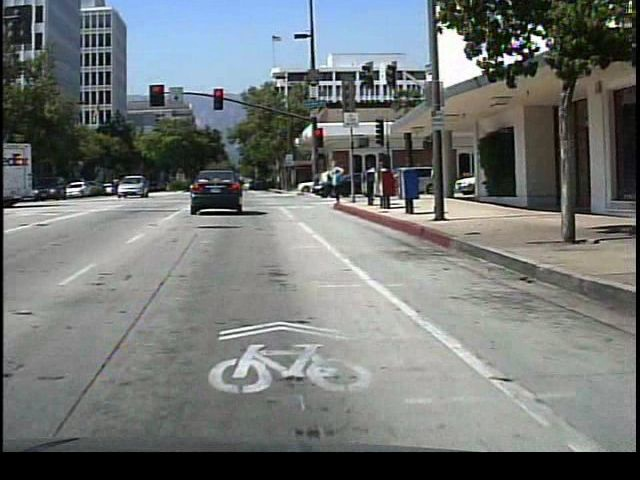person: (325, 152, 348, 208), (374, 156, 393, 200), (361, 158, 379, 198)
